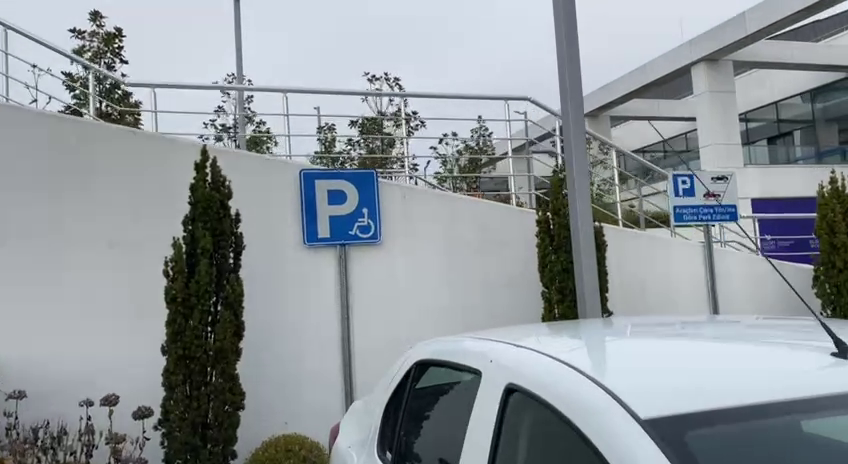parking: (298, 168, 382, 246), (671, 171, 696, 199)
